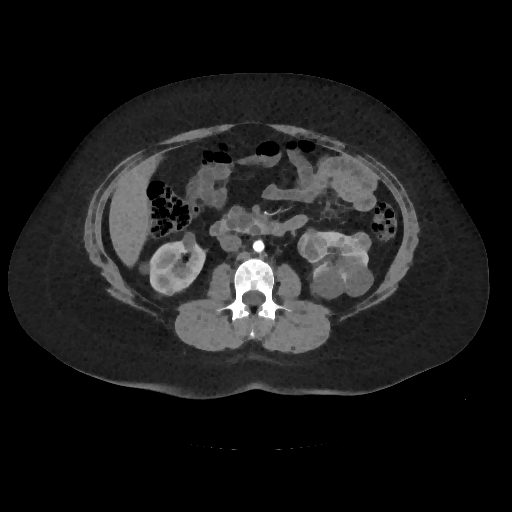Lesion: (294, 229, 329, 266)
